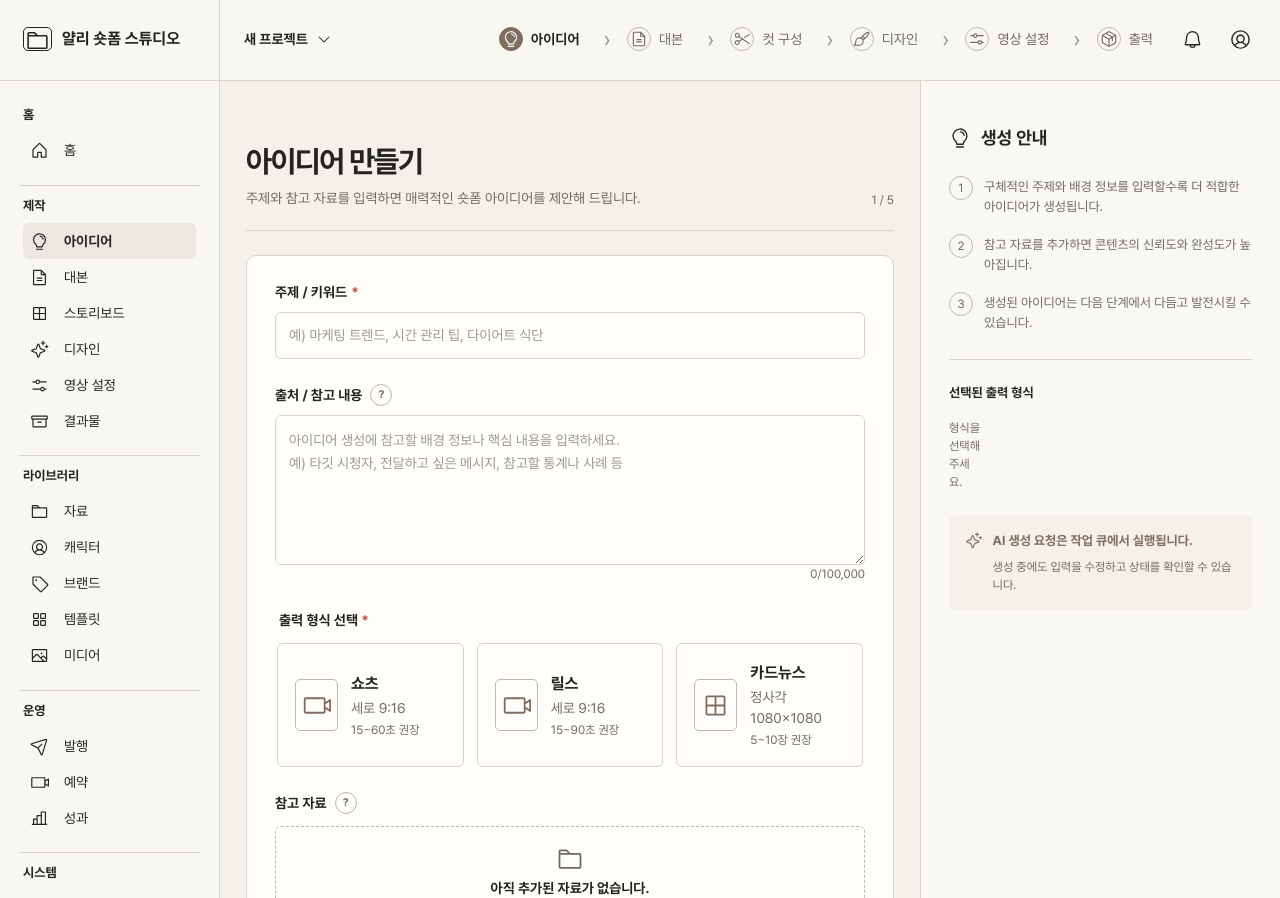
shows field errors and live counts without enqueueing an empty draft
The width and height of the screenshot is (1280, 898).
Replace the text in the text box labelled "출처 / 참고 내용" with "참고 문장" at (570, 490), box [275, 415, 865, 565]
(page scrolled)
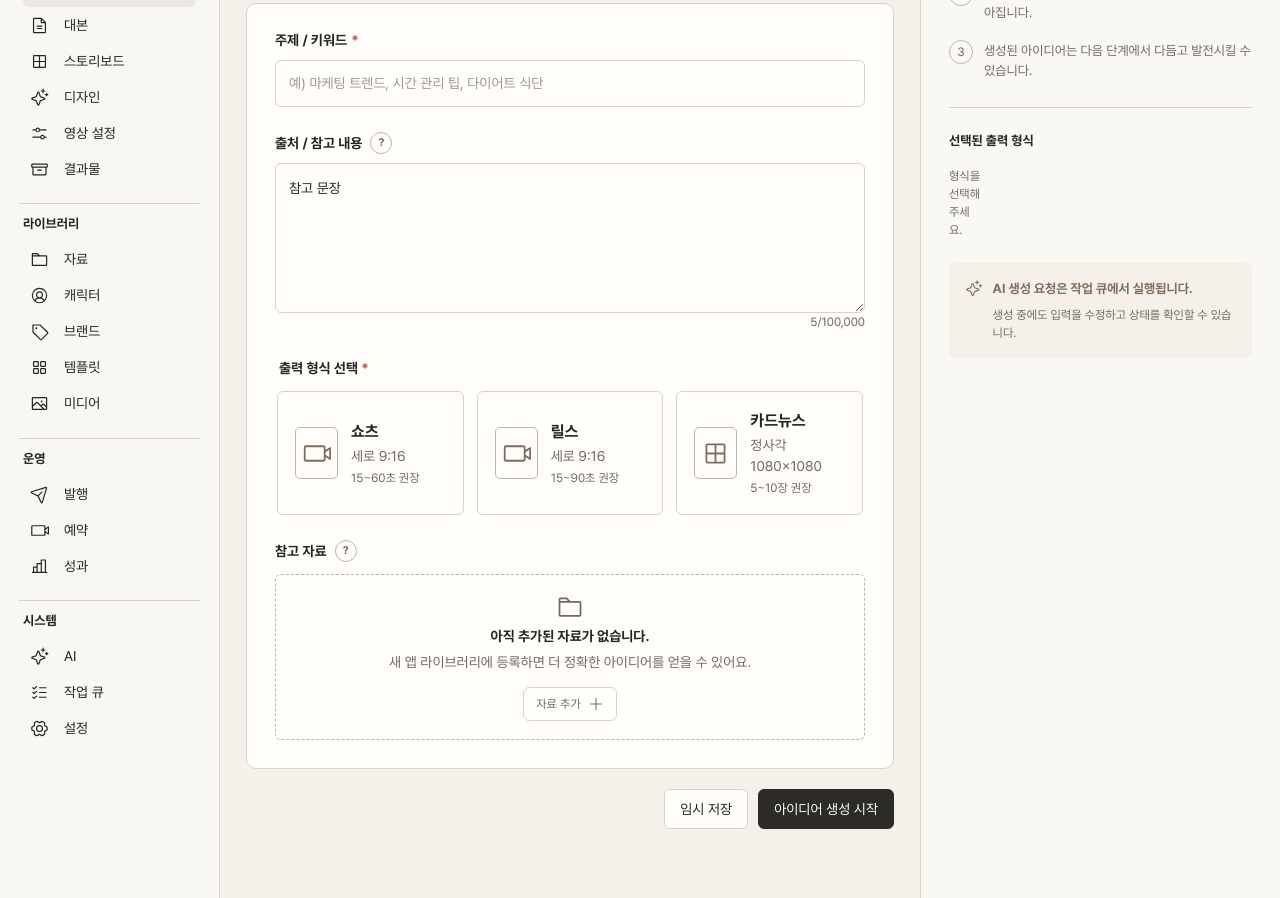
Click the button "아이디어 생성 시작".
click(826, 809)  # box [758, 789, 894, 829]
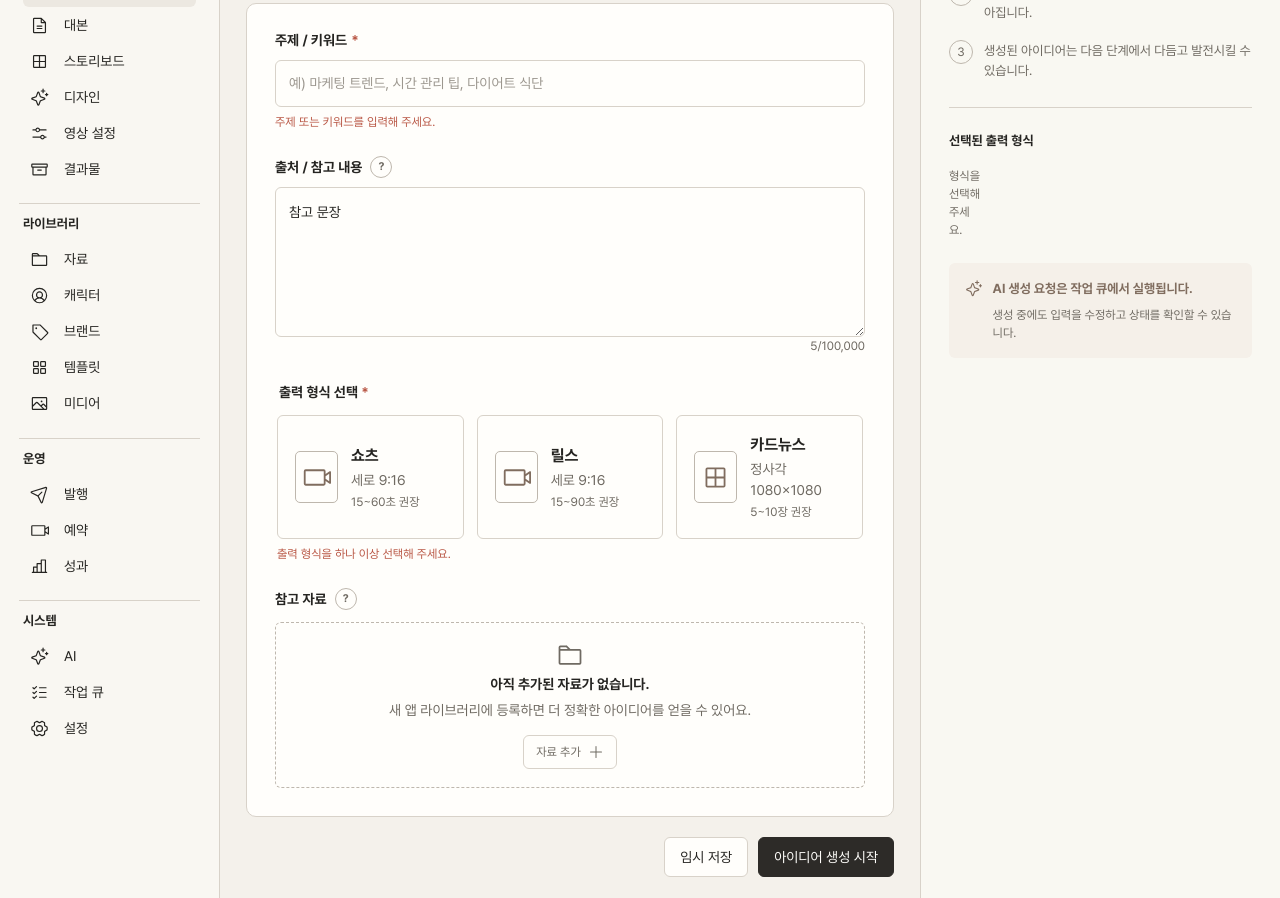
Expected: the text "5/100,000" is shown, [810, 337, 865, 357]
Expected: the text "주제 또는 키워드를 입력해 주세요." is shown, [275, 115, 435, 129]
Expected: the text "출력 형식을 하나 이상 선택해 주세요." is shown, [277, 547, 451, 561]
